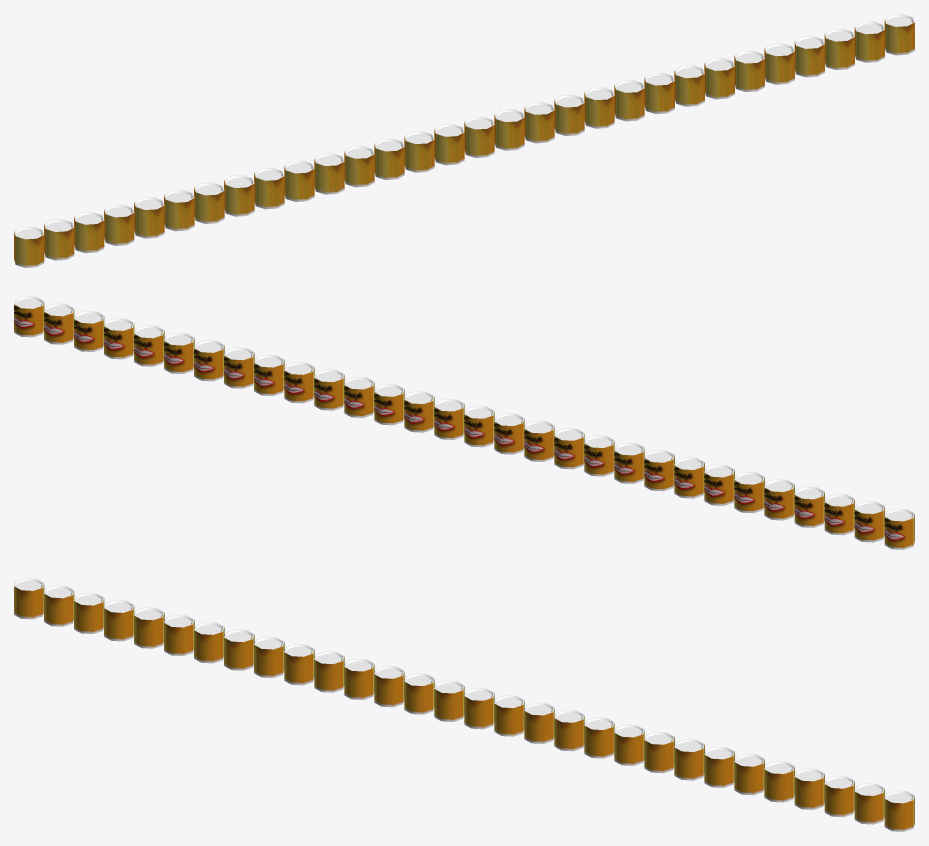
File: SoupCans.fbx
The picture shows the model from 3 angles, top to bottom: view 1: azimuth 30°, elevation 25°; view 2: azimuth 150°, elevation 25°; view 3: azimuth 330°, elevation 25°; orthographic projection.
Parts seen in each view (by area): view 1: SoupCans; view 2: SoupCans; view 3: SoupCans.
Part boxes in pixels (x1=…): SoupCans: x1=14, y1=14, x2=914, y2=267; SoupCans: x1=14, y1=296, x2=914, y2=549; SoupCans: x1=14, y1=578, x2=914, y2=831.
Bounding box in the file's own units: 4.86 × 0.1476 × 0.1476.
